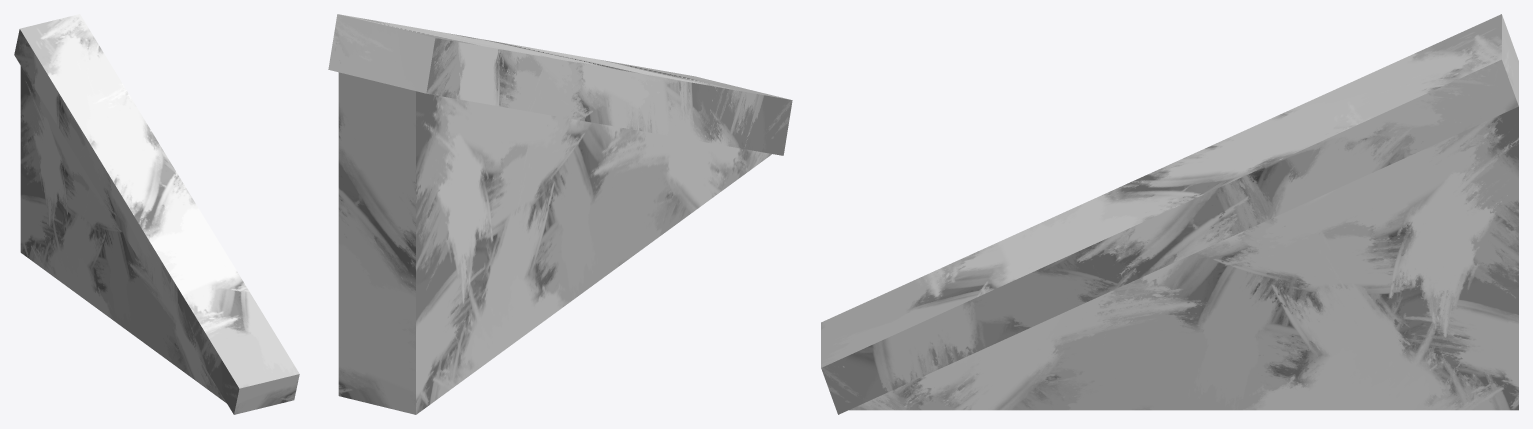
Rendered from BStairsTrim_B.fbx.
The picture shows the model from 3 angles, left to right: view 1: azimuth 30°, elevation 25°; view 2: azimuth 150°, elevation 25°; view 3: azimuth 270°, elevation 25°; orthographic projection. The views are drawn at different scales.
Parts seen in each view (by area): view 1: StairsTrim_B; view 2: StairsTrim_B; view 3: StairsTrim_B.
Part boxes in pixels (bbox=[...]): StairsTrim_B: bbox=[14, 14, 299, 414]; StairsTrim_B: bbox=[328, 14, 792, 414]; StairsTrim_B: bbox=[821, 14, 1518, 414].
Bounding box in the file's own units: 63.37 × 230 × 410.
